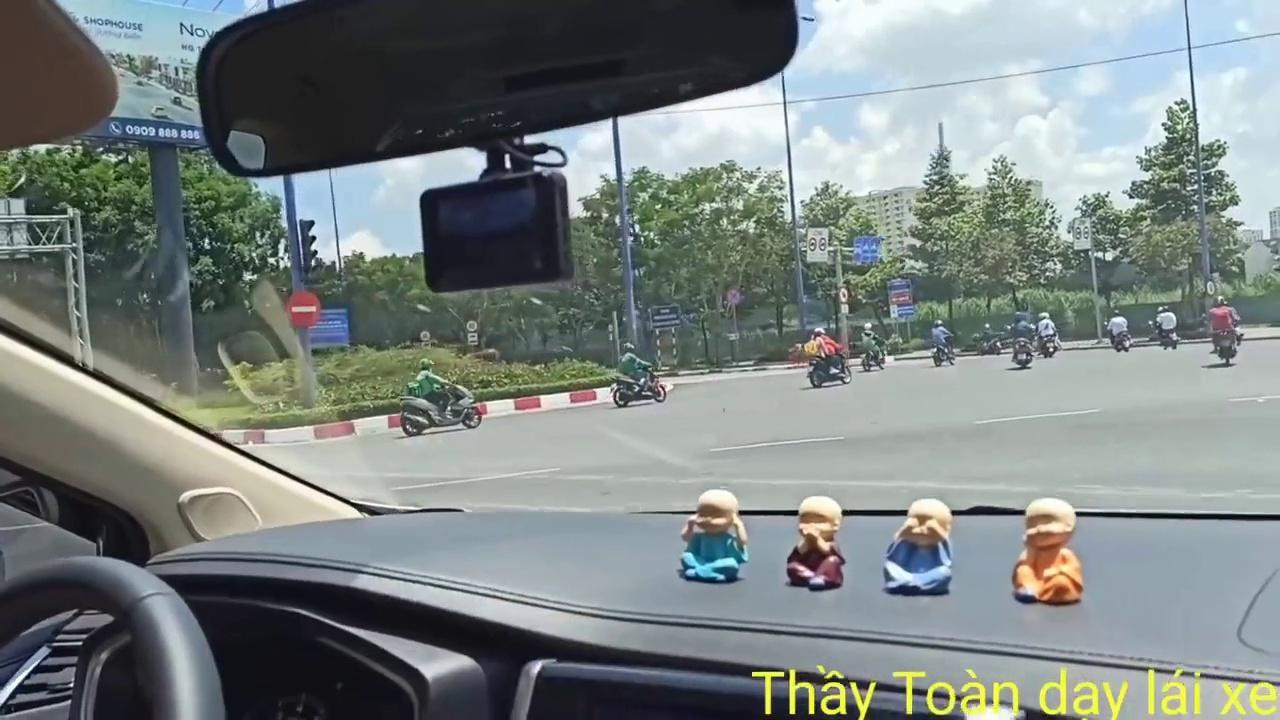Cấm cac phương tiện hoạt động trong khung giờ cố định: (804, 226, 829, 263)
Cấm dừng - Cấm đỗ: (725, 287, 742, 305)
Cấm đi ngược chiều: (284, 288, 322, 328)
Khác: (304, 306, 351, 348), (887, 278, 915, 319)
Làn đường cho từng xe: (852, 234, 881, 266)
